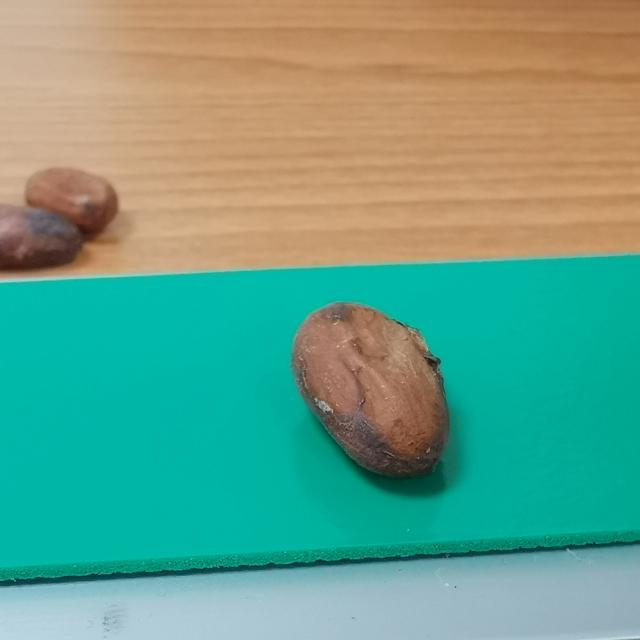Fine_cocoabeans: (221, 271, 535, 526)
